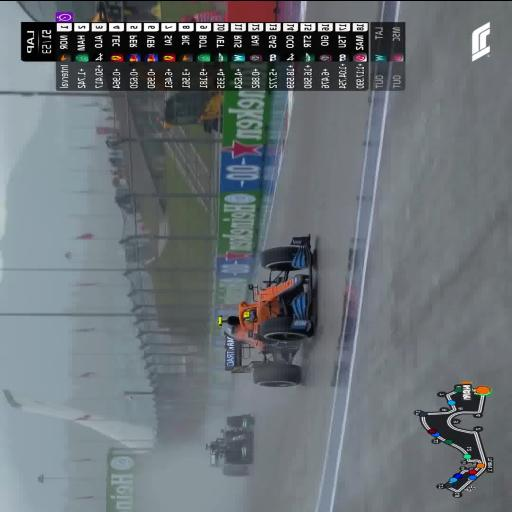f1_car: (218, 234, 312, 386), (205, 413, 253, 475)
